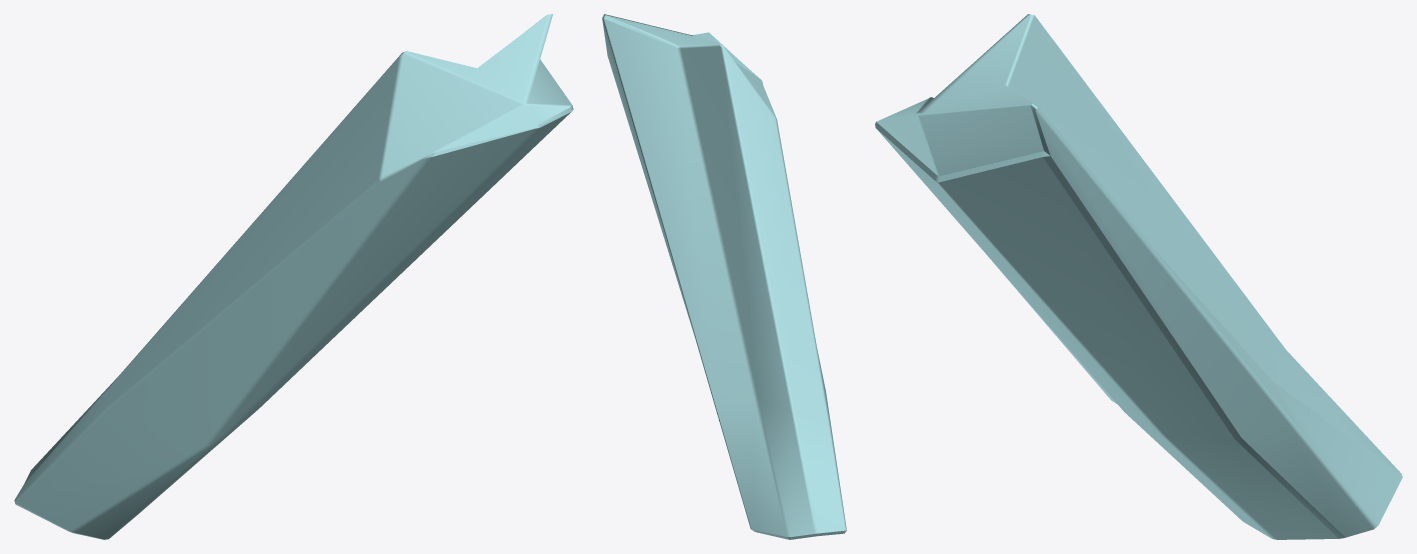
Rendered from Ice_06.fbx.
The picture shows the model from 3 angles, left to right: view 1: azimuth 30°, elevation 25°; view 2: azimuth 150°, elevation 25°; view 3: azimuth 270°, elevation 25°; orthographic projection. The views are drawn at different scales.
Visible parts, largest first — view 1: Ice_07; view 2: Ice_07; view 3: Ice_07.
Boxes of the visible parts, x1,y1,x2,y2 form: Ice_07: (14,14,573,539); Ice_07: (602,14,846,539); Ice_07: (875,14,1402,539).
Size of the model in its own units: 431 by 485 by 358.
